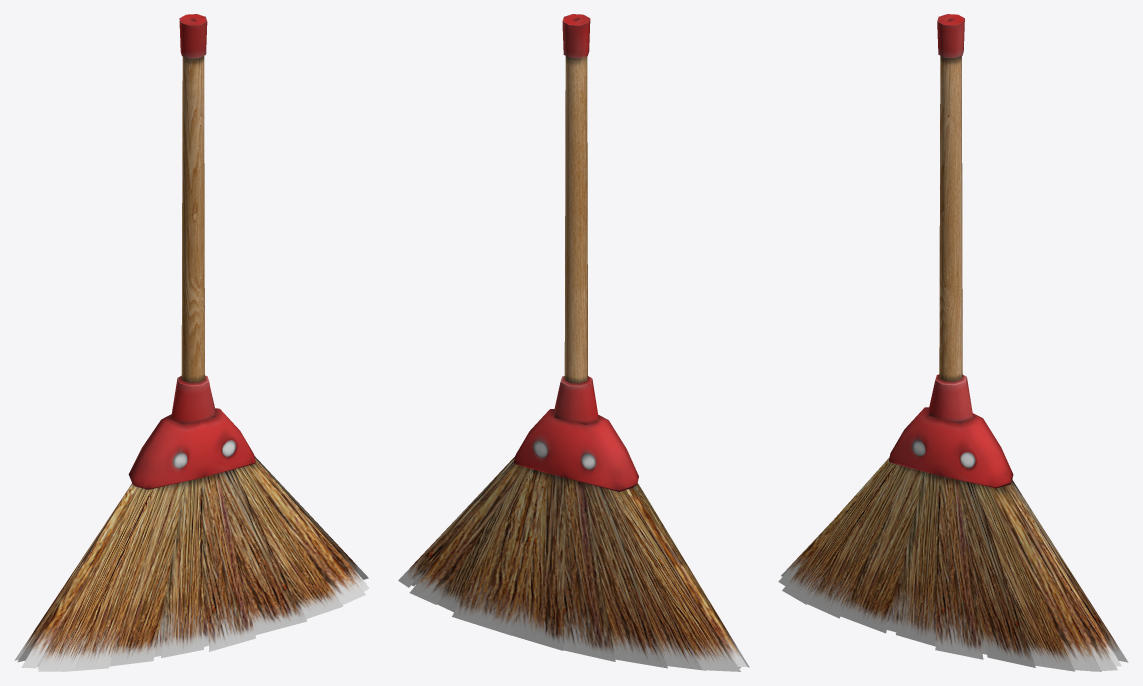
3 renders of one model, left to right at view 1: azimuth 30°, elevation 25°; view 2: azimuth 150°, elevation 25°; view 3: azimuth 330°, elevation 25°, orthographic.
Visible parts, largest first — view 1: JJ_tiaozhu; view 2: JJ_tiaozhu; view 3: JJ_tiaozhu.
Boxes of the visible parts, x1,y1,x2,y2 form: JJ_tiaozhu: (14, 14, 369, 671); JJ_tiaozhu: (398, 14, 749, 671); JJ_tiaozhu: (778, 14, 1128, 671).
Bounding box in the file's own units: 73.32 × 124 × 10.47.
